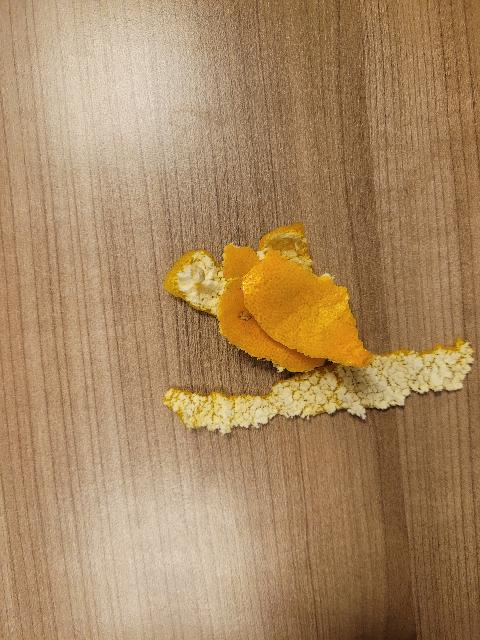Organik: (160, 220, 375, 381), (167, 342, 474, 436)
